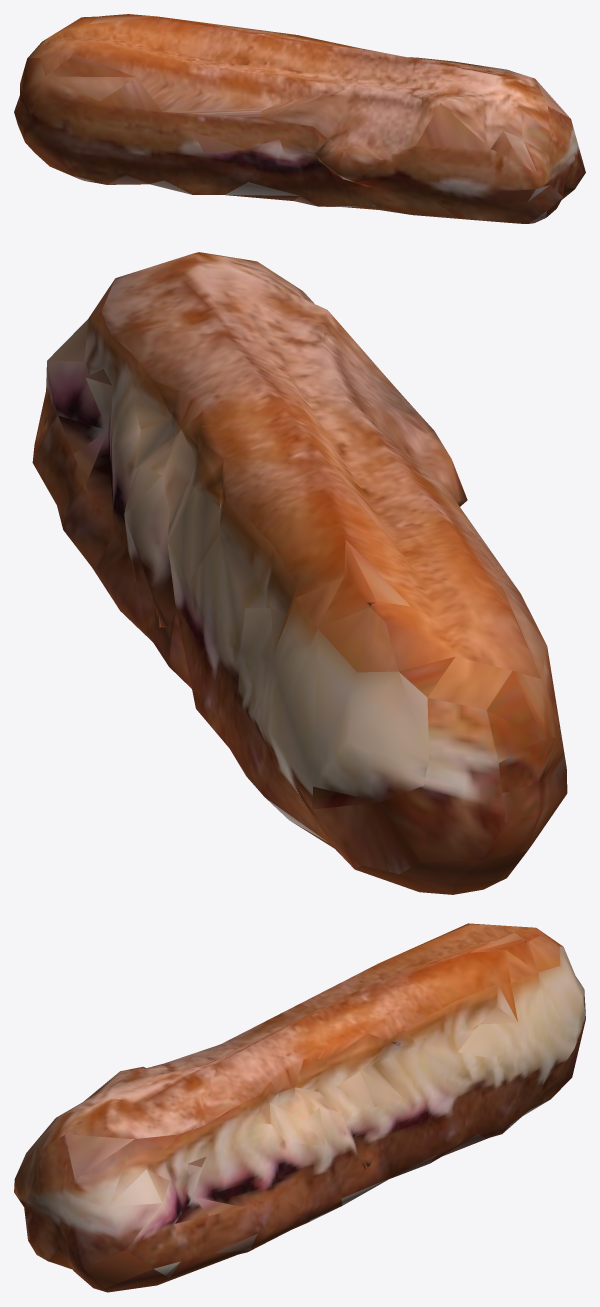
File: eclaire_606.obj
The picture shows the model from 3 angles, top to bottom: view 1: azimuth 30°, elevation 25°; view 2: azimuth 150°, elevation 25°; view 3: azimuth 270°, elevation 25°; orthographic projection. The views are drawn at different scales.
Size of the model in its own units: 93.88 by 31.68 by 91.11.
1 material, 1 textured.
